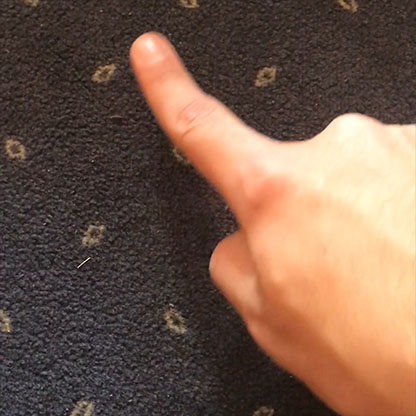fingertip: (116, 24, 185, 81)
